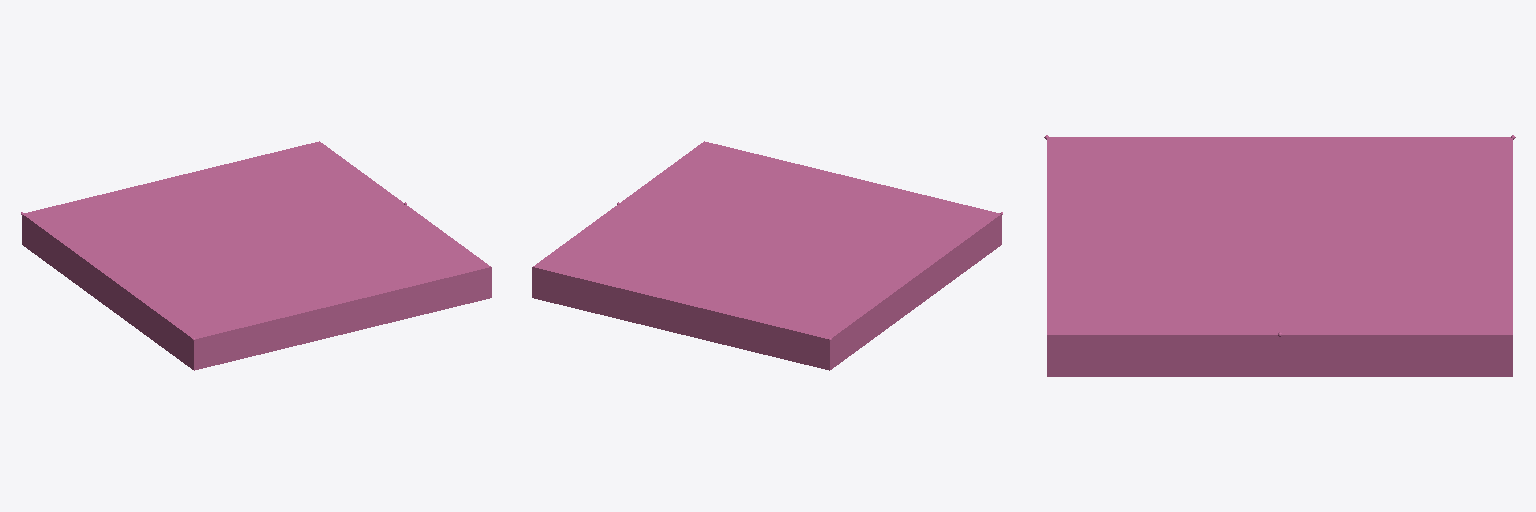
URDF robot description (plate):
<?xml version="1.0" encoding="utf-8"?>

<robot name="plate">
  <link name="base_link"/>
  <link name="plate_x"/>
  <link name="plate_y"/>
  <link name="plate_rx"/>
  <link name="plate_ry"/>
  <link name="plate_rz"/>
  <link name="plate">
    <inertial>
      <mass value="2.0"/>
      <inertia
          ixx="0.0067"
          ixy="0"
          ixz="0"
          iyy="0.0067"
          iyz="0"
          izz="0.013"/>
    </inertial>
    <visual>
      <origin rpy="0 0 0" xyz="0 0 0.01"/>
      <geometry>
        <box size="0.2 0.2 0.02"/>
      </geometry>
    </visual>
    <visual>
      <origin rpy="0 0 0" xyz="0.1 0.0 0.02"/>
      <geometry>
        <sphere radius="0.001"/>
      </geometry>
    </visual>
    <visual>
      <origin rpy="0 0 0" xyz="-0.1 0.1 0.02"/>
      <geometry>
        <sphere radius="0.001"/>
      </geometry>
    </visual>
    <visual>
      <origin rpy="0 0 0" xyz="-0.1 -0.1 0.02"/>
      <geometry>
        <sphere radius="0.001"/>
      </geometry>
    </visual>
    <collision name="middle_right">
      <geometry>
        <sphere radius="0.01"/>
      </geometry>
      <origin rpy="0 0 0" xyz="0.2 0.0 0.01"/>
    </collision>
    <collision name="top_left">
      <geometry>
        <sphere radius="0.01"/>
      </geometry>
      <origin rpy="0 0 0" xyz="-0.2 0.2 0.01"/>
    </collision>
    <collision name="bottom_left">
      <geometry>
        <sphere radius="0.01"/>
      </geometry>
      <origin rpy="0 0 0" xyz="-0.2 -0.2 0.01"/>
    </collision>
  </link>
  <joint name="plate_x" type="prismatic">
    <parent link="base_link"/>
    <child link="plate_x"/>
    <axis xyz="1 0 0"/>
  </joint>
  <joint name="plate_y" type="prismatic">
    <parent link="plate_x"/>
    <child link="plate_y"/>
    <axis xyz="0 1 0"/>
  </joint>
  <joint name="plate_z" type="prismatic">
    <parent link="plate_y"/>
    <child link="plate_rx"/>
    <axis xyz="0 0 1"/>
  </joint>
  <joint name="plate_rx" type="revolute">
    <parent link="plate_rx"/>
    <child link="plate_ry"/>
    <axis xyz="1 0 0"/>
  </joint>
  <joint name="plate_ry" type="revolute">
    <parent link="plate_ry"/>
    <child link="plate_rz"/>
    <axis xyz="0 1 0"/>
  </joint>
  <joint name="plate_rz" type="revolute">
    <parent link="plate_rz"/>
    <child link="plate"/>
    <axis xyz="0 0 1"/>
  </joint>
  <transmission name="plate_x" type="SimpleTransmission">
    <actuator name="plate_virtual_actuator_x"/>
    <joint name="plate_x"/>
    <mechanicalReduction>1</mechanicalReduction>
  </transmission>
  <transmission name="plate_y" type="SimpleTransmission">
    <actuator name="plate_virtual_actuator_y"/>
    <joint name="plate_y"/>
    <mechanicalReduction>1</mechanicalReduction>
  </transmission>
  <transmission name="plate_z" type="SimpleTransmission">
    <actuator name="plate_virtual_actuator_z"/>
    <joint name="plate_z"/>
    <mechanicalReduction>1</mechanicalReduction>
  </transmission>
  <transmission name="plate_rx" type="SimpleTransmission">
    <actuator name="plate_virtual_actuator_rx"/>
    <joint name="plate_rx"/>
    <mechanicalReduction>1</mechanicalReduction>
  </transmission>
  <transmission name="plate_ry" type="SimpleTransmission">
    <actuator name="plate_virtual_actuator_ry"/>
    <joint name="plate_ry"/>
    <mechanicalReduction>1</mechanicalReduction>
  </transmission>
  <transmission name="plate_rz" type="SimpleTransmission">
    <actuator name="plate_virtual_actuator_rz"/>
    <joint name="plate_rz"/>
    <mechanicalReduction>1</mechanicalReduction>
  </transmission>
</robot>

--- Render facts (derived) ---
3 views of the same robot in one strip: view 1: azimuth 30°, elevation 25°; view 2: azimuth 150°, elevation 25°; view 3: azimuth 270°, elevation 25° (orthographic).
Model plate with 7 links and 6 joints (3 revolute, 3 prismatic), rooted at base_link, posed all joints at 0.
Links seen in each view (by area): view 1: plate; view 2: plate; view 3: plate.
Boxes of the visible links, bbox=[...] form: plate: bbox=[21, 141, 491, 370]; plate: bbox=[532, 141, 1002, 370]; plate: bbox=[1044, 135, 1515, 376].
Bounding box of the posed robot: 0.202 × 0.202 × 0.021 m (x, y, z).
Geometry: primitives only (box / cylinder / sphere), no mesh files.